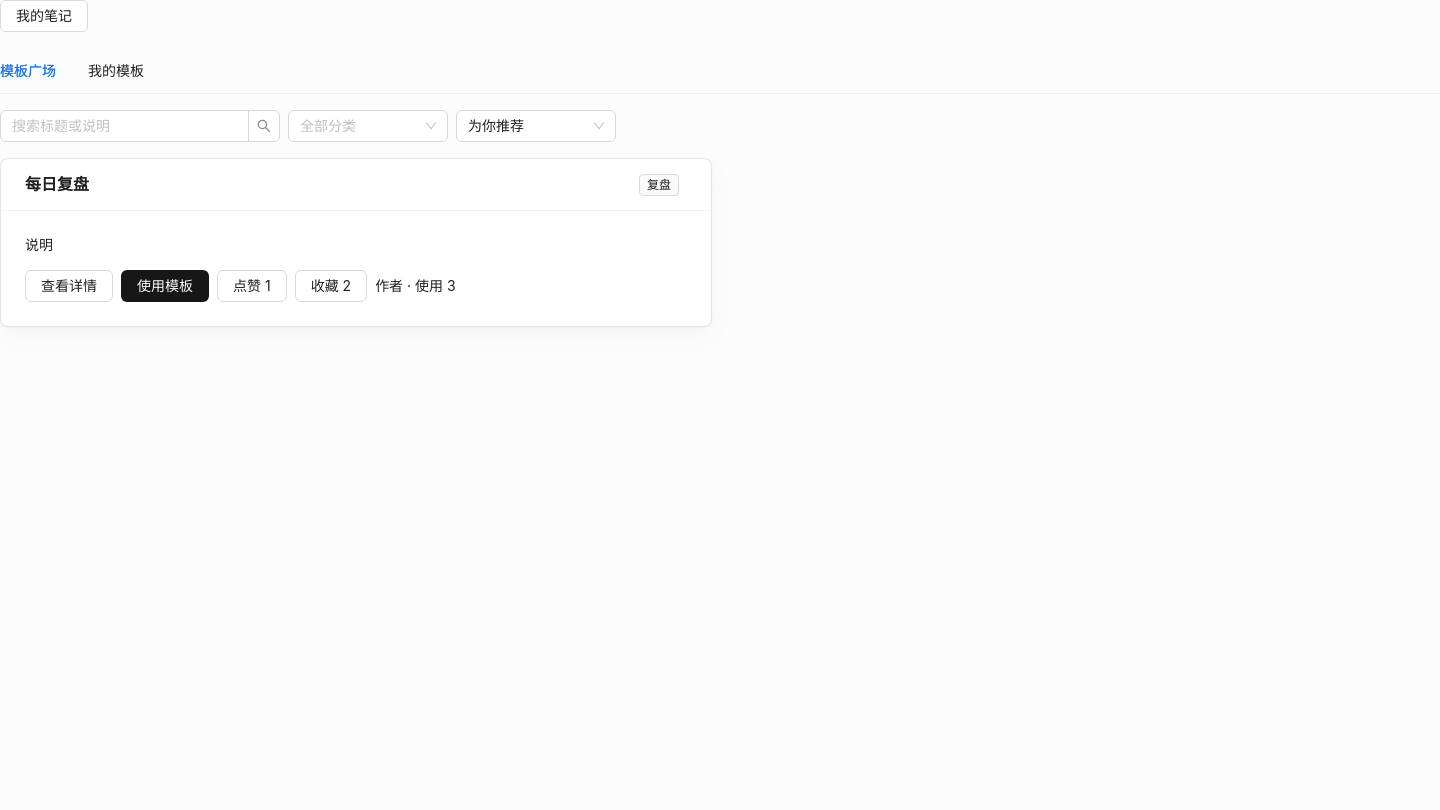
Test: renders public templates with interactions
Check: the text "每日复盘" is shown, box x1=25 y1=174 x2=89 y2=194
Check: the text "使用模板" is shown, box x1=137 y1=275 x2=193 y2=297
Click the button "查看详情". click: [69, 286]
box: x1=25 y1=270 x2=113 y2=302
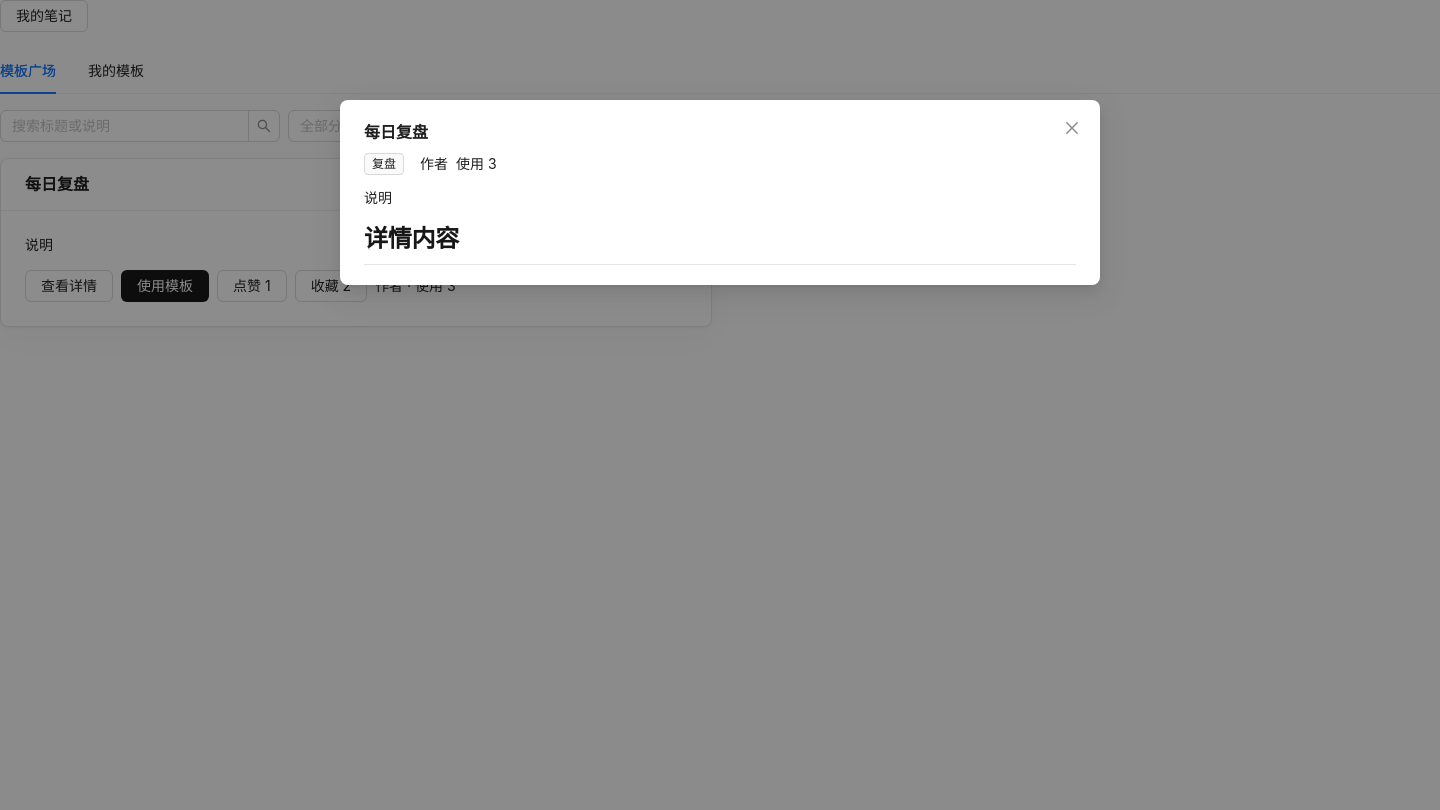
Check: the heading "详情内容" is shown, box x1=364 y1=223 x2=1076 y2=265
